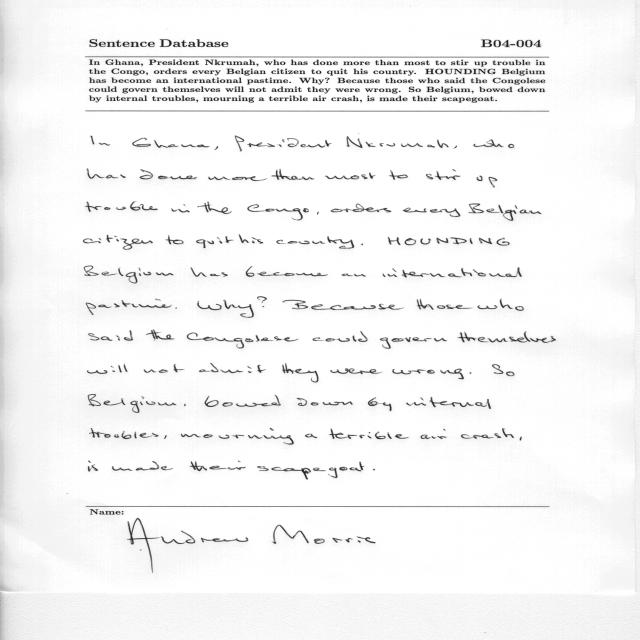word: (257, 462, 364, 480), (181, 428, 294, 445), (187, 333, 298, 349), (88, 394, 176, 413), (84, 266, 174, 283), (87, 298, 172, 315), (235, 136, 331, 151), (383, 268, 522, 278), (469, 203, 542, 221), (347, 136, 449, 148), (282, 300, 404, 310), (458, 331, 556, 343), (83, 235, 153, 250), (197, 300, 254, 318), (406, 397, 491, 409), (276, 236, 354, 249), (247, 205, 309, 221), (388, 237, 510, 245), (204, 395, 281, 407), (246, 266, 328, 277), (380, 337, 447, 349), (330, 429, 409, 439), (132, 138, 210, 148), (90, 428, 159, 439), (282, 363, 319, 383), (85, 202, 158, 212), (392, 369, 464, 379), (199, 363, 266, 373), (112, 461, 173, 471), (417, 299, 472, 310), (313, 331, 368, 342), (461, 428, 514, 439), (140, 170, 197, 180), (477, 299, 524, 311), (190, 461, 246, 471), (331, 204, 391, 213), (403, 208, 460, 217), (89, 330, 133, 341), (272, 169, 315, 180), (196, 236, 234, 248), (297, 398, 353, 406), (198, 202, 232, 214), (88, 364, 128, 374), (87, 169, 126, 179), (426, 169, 460, 180), (191, 267, 228, 277), (474, 139, 515, 148), (144, 364, 184, 373), (325, 173, 375, 180), (368, 398, 392, 412), (331, 368, 383, 374), (146, 330, 174, 341), (208, 176, 267, 181), (492, 364, 515, 376), (421, 429, 447, 439), (239, 235, 264, 244), (477, 176, 497, 187), (91, 136, 110, 146), (389, 170, 408, 180), (171, 204, 190, 213), (166, 235, 184, 244), (88, 461, 98, 472), (257, 297, 267, 307), (341, 274, 366, 277), (305, 434, 317, 438), (215, 146, 218, 150), (453, 146, 457, 149), (164, 435, 167, 439), (520, 437, 522, 441), (317, 212, 319, 215), (361, 244, 363, 246), (175, 307, 177, 309), (470, 372, 472, 374), (184, 404, 186, 406), (373, 469, 375, 470)
